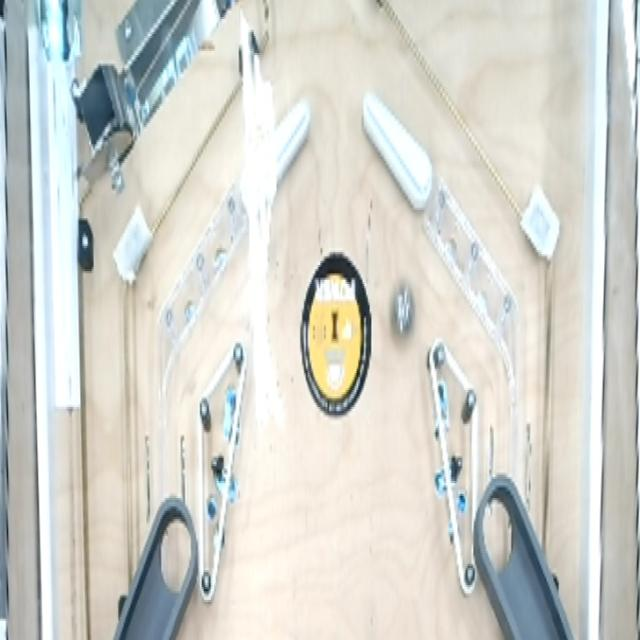ball: (389, 274, 416, 342)
flipper-left: (359, 86, 435, 221)
flipper-right: (236, 90, 314, 226)
